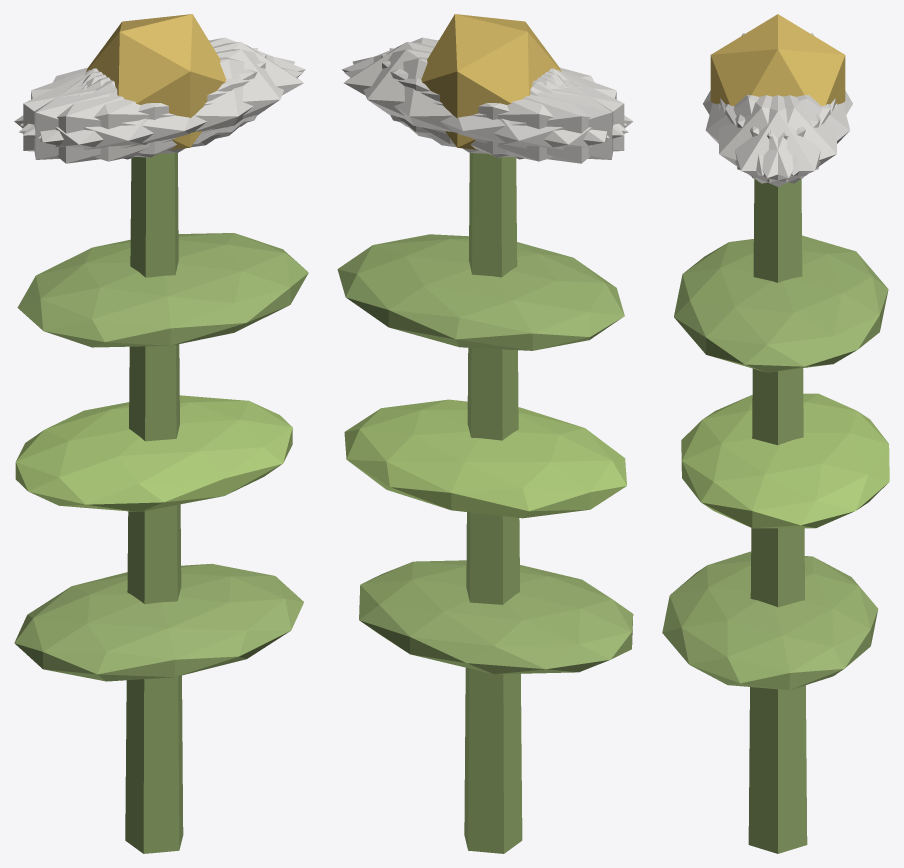
File: coccinia-grandis.glb
The picture shows the model from 3 angles, left to right: view 1: azimuth 30°, elevation 25°; view 2: azimuth 150°, elevation 25°; view 3: azimuth 270°, elevation 25°; orthographic projection.
Visible parts, largest first — view 1: stem, leaf0, leaf2, leaf1, center, petal1, petal6, petal2, petal5, petal7, petal0, petal4 (+2 smaller); view 2: stem, leaf1, leaf2, leaf0, center, petal8, petal3, petal7, petal4, petal2, petal0, petal5 (+2 smaller); view 3: stem, leaf2, leaf1, leaf0, center, petal0, petal5, petal4, petal8, petal1.
Boxes of the visible parts, x1,y1,x2,y2 form: stem: (125, 153, 183, 853); leaf0: (14, 563, 303, 681); leaf2: (17, 233, 308, 347); leaf1: (15, 395, 292, 511); center: (86, 14, 226, 149); petal1: (19, 57, 302, 161); petal6: (14, 70, 219, 163); petal2: (34, 48, 257, 159); petal5: (38, 49, 294, 154); petal7: (23, 54, 266, 157); petal0: (85, 42, 303, 144); petal4: (20, 37, 305, 135); stem: (464, 153, 522, 853); leaf1: (344, 399, 626, 518); leaf2: (337, 234, 624, 350); leaf0: (359, 560, 633, 674); center: (421, 14, 561, 149); petal8: (344, 57, 628, 161); petal3: (427, 70, 632, 163); petal7: (389, 48, 613, 159); petal4: (352, 49, 609, 154); petal2: (381, 54, 624, 157); petal0: (344, 42, 561, 144); petal5: (342, 37, 627, 135); stem: (748, 179, 807, 853); leaf2: (674, 235, 888, 372); leaf1: (681, 393, 889, 528); leaf0: (662, 551, 878, 690); center: (710, 14, 845, 105); petal0: (720, 95, 835, 186); petal5: (718, 95, 830, 183); petal4: (725, 95, 837, 183); petal8: (735, 95, 850, 175); petal1: (705, 95, 820, 175).
Size of the model in its own units: 0.1452 by 0.4061 by 0.1035.
